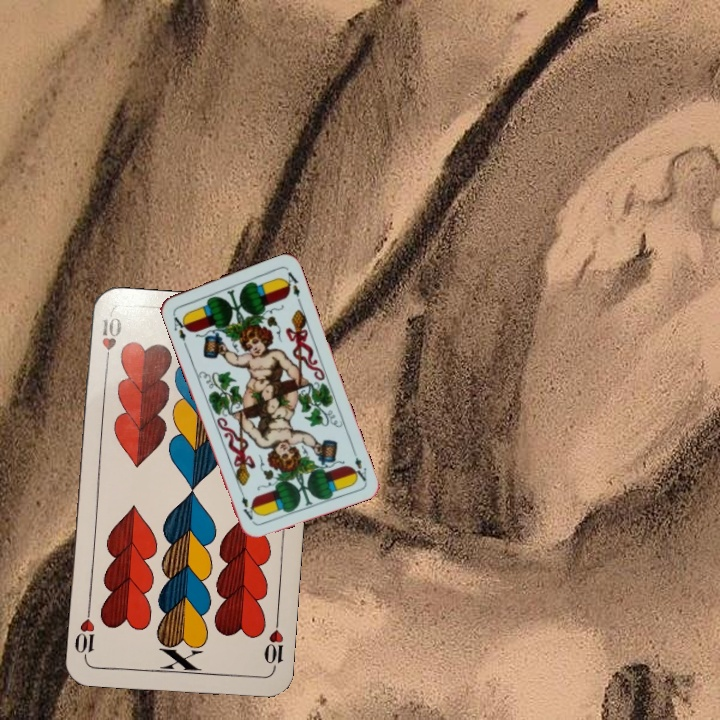EA: (348, 444, 369, 484), (169, 308, 192, 344)
H10: (98, 311, 124, 370), (260, 614, 286, 673)
